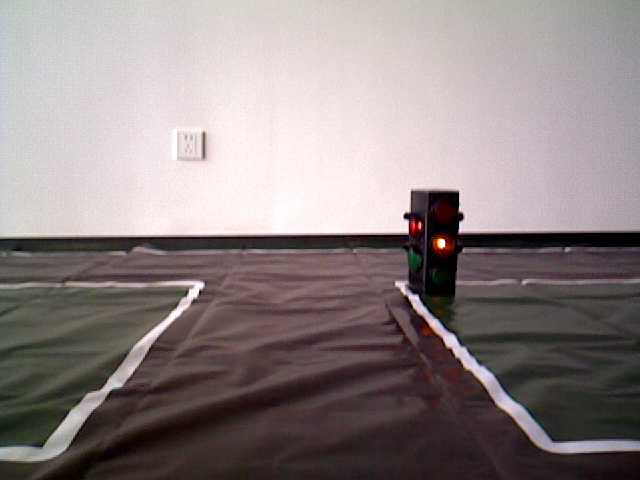yellow: (407, 190, 457, 296)
